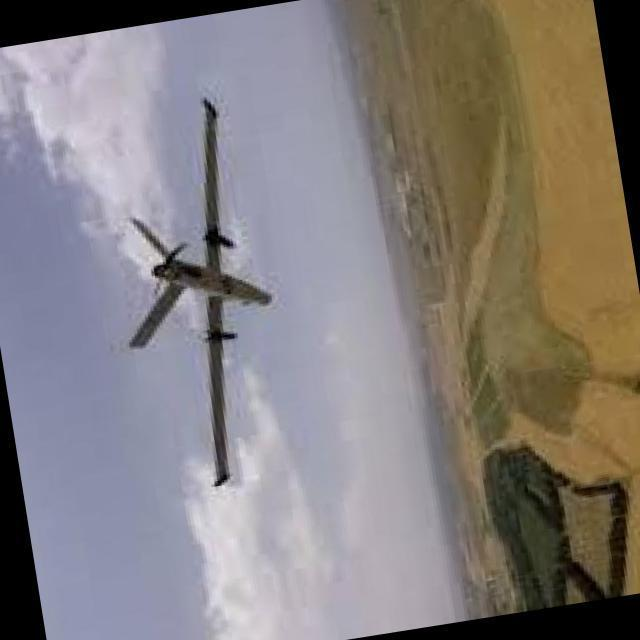iha: (88, 84, 299, 506)
